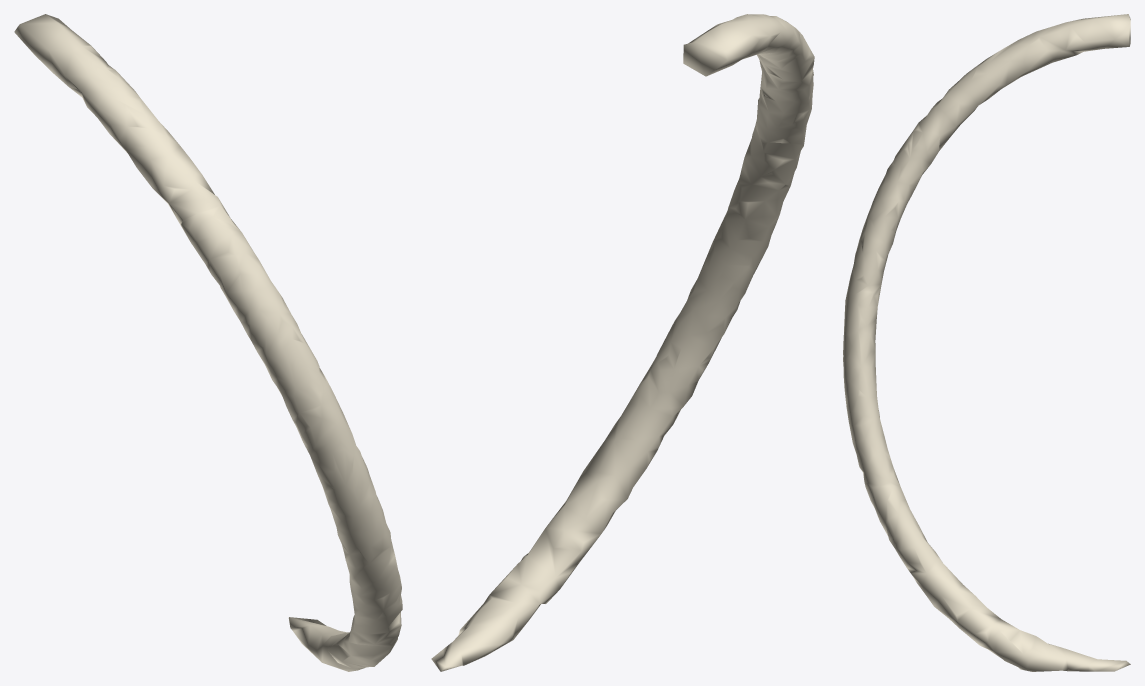
The model's file is rib_3_l.glb.
3 renders of one model, left to right at view 1: azimuth 30°, elevation 25°; view 2: azimuth 150°, elevation 25°; view 3: azimuth 270°, elevation 25°, orthographic. The views are drawn at different scales.
Visible parts, largest first — view 1: geometry_0; view 2: geometry_0; view 3: geometry_0.
Boxes of the visible parts, bbox=[...] form: geometry_0: bbox=[14, 14, 402, 671]; geometry_0: bbox=[431, 14, 814, 671]; geometry_0: bbox=[843, 14, 1130, 671].
Bounding box in the file's own units: 0.2241 × 0.4791 × 0.228.
